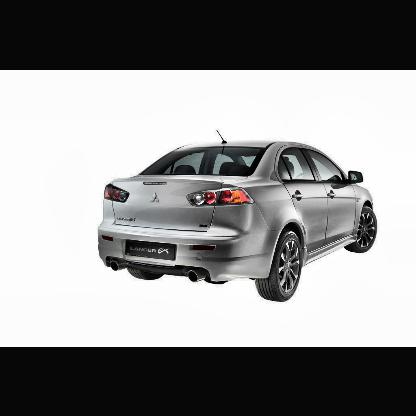Mitsubishi Lancer Sedan 2012: (95, 128, 380, 302)
